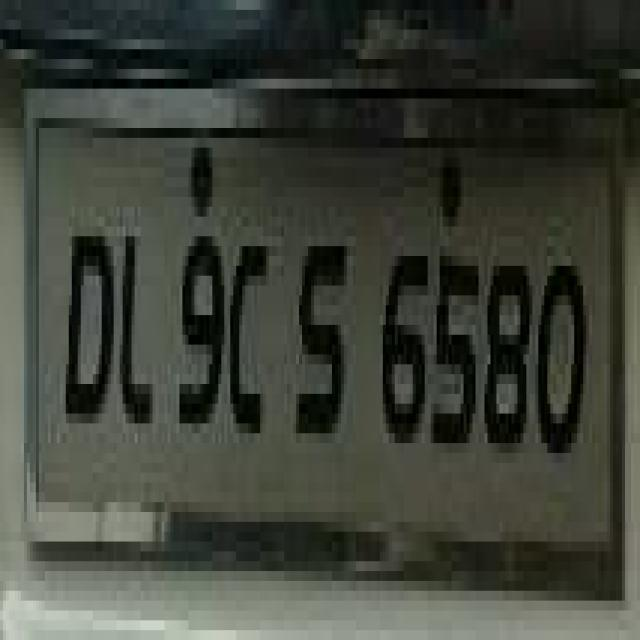license_plate: (24, 99, 640, 571)
